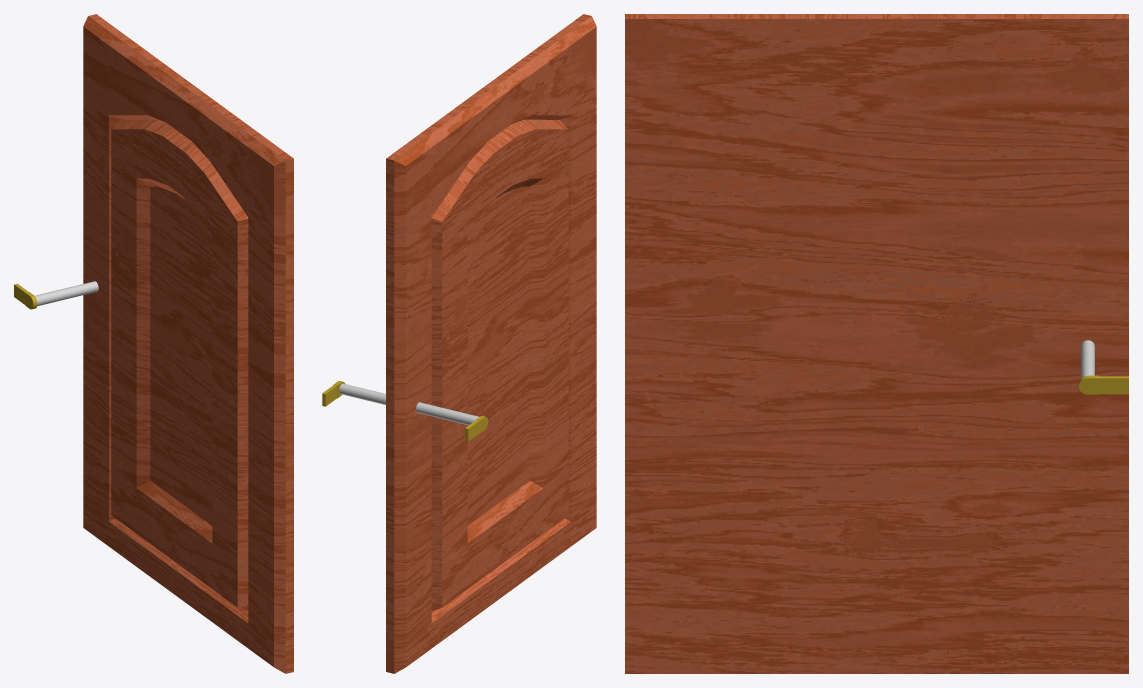
File: Cabinet_740c451a.obj
3 views of the same model, side by side, from view 1: azimuth 30°, elevation 25°; view 2: azimuth 150°, elevation 25°; view 3: azimuth 270°, elevation 25° (orthographic). The views are drawn at different scales.
Visible parts, largest first — view 1: Mesh_01_52574160, handle_2_178mm_01_590995cf; view 2: Mesh_01_52574160, handle_2_178mm_01_590995cf; view 3: Mesh_01_52574160, handle_2_178mm_01_590995cf.
Part boxes in pixels (x1,y1,x2,y2): Mesh_01_52574160: (83, 14, 293, 673); handle_2_178mm_01_590995cf: (14, 281, 98, 309); Mesh_01_52574160: (386, 14, 596, 673); handle_2_178mm_01_590995cf: (322, 381, 488, 441); Mesh_01_52574160: (625, 14, 1128, 673); handle_2_178mm_01_590995cf: (1079, 340, 1128, 394).
Bounding box in the file's own units: 0.178 × 0.595 × 0.415.
